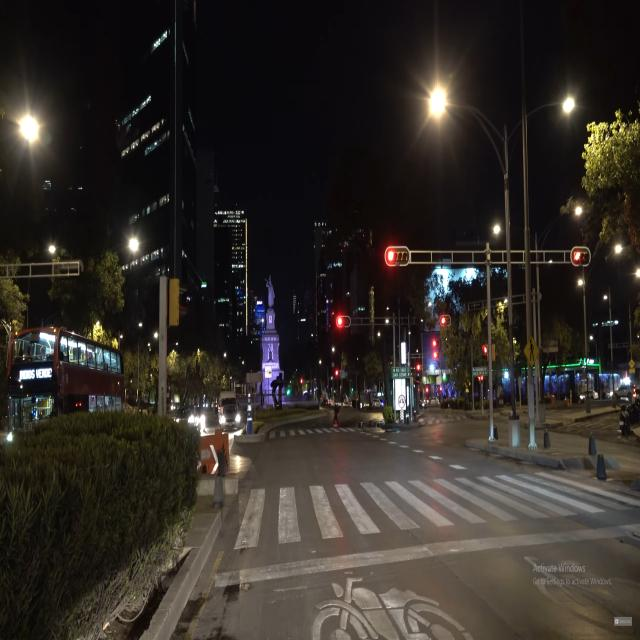headlights: (218, 408, 244, 432)
